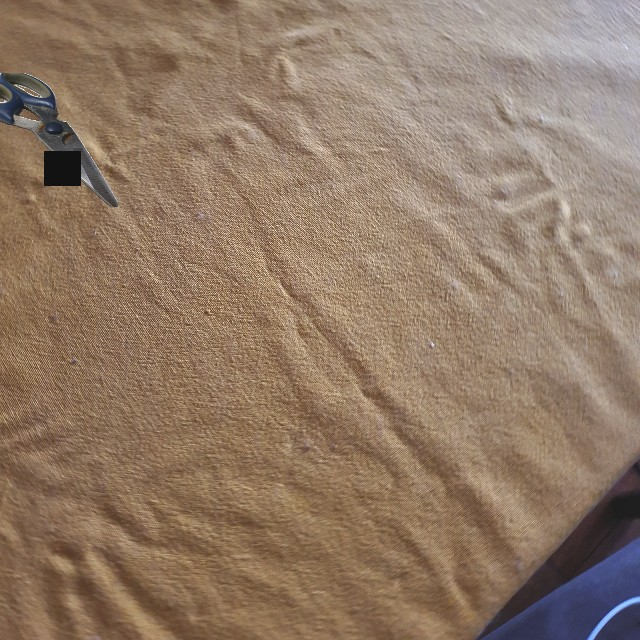scissors: (0, 73, 118, 207)
